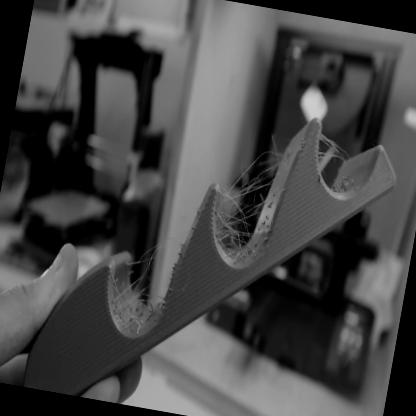fail: (212, 143, 285, 264)
